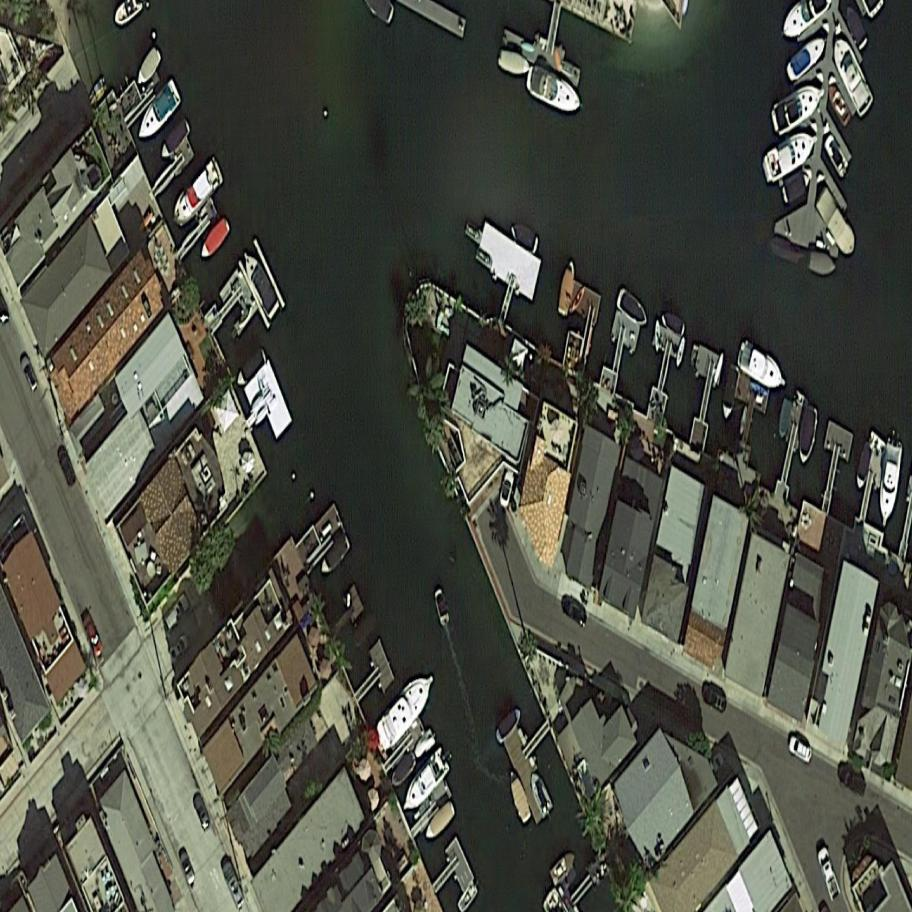ship: (366, 662, 448, 756), (160, 152, 236, 236), (758, 71, 838, 141), (390, 744, 460, 823), (753, 120, 830, 187), (126, 78, 191, 151), (727, 336, 800, 401), (827, 31, 880, 120), (809, 185, 866, 263), (518, 63, 593, 121), (236, 244, 286, 325), (778, 30, 835, 86), (769, 0, 833, 48), (876, 441, 903, 530), (608, 286, 657, 335), (419, 798, 463, 846), (154, 115, 197, 164), (195, 215, 236, 265), (503, 766, 535, 828), (230, 347, 273, 392), (314, 534, 356, 578), (543, 846, 584, 889), (489, 703, 528, 748), (503, 218, 547, 257), (131, 44, 166, 93), (524, 766, 556, 819), (385, 749, 423, 793), (820, 132, 854, 180), (775, 170, 819, 207), (795, 403, 820, 468), (823, 82, 856, 130), (841, 2, 871, 53), (555, 257, 578, 321), (430, 586, 457, 632), (453, 875, 486, 912), (408, 728, 442, 763), (656, 308, 692, 341), (721, 363, 741, 422), (854, 440, 875, 493), (805, 250, 842, 280), (496, 49, 534, 75), (776, 398, 793, 442)
small-vehicle: (156, 589, 197, 636), (218, 859, 250, 912), (814, 846, 844, 902), (832, 763, 876, 801), (77, 612, 108, 661), (781, 732, 821, 768), (53, 444, 81, 490), (556, 596, 594, 628), (696, 684, 733, 716), (16, 351, 42, 394), (189, 790, 214, 833), (175, 848, 200, 890), (496, 465, 518, 511)
